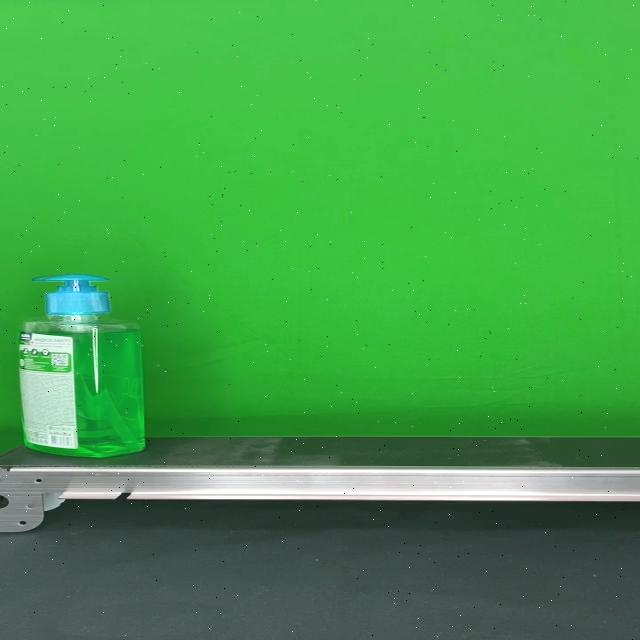Bottle: (17, 274, 146, 457)
Cap: (29, 274, 110, 315)
